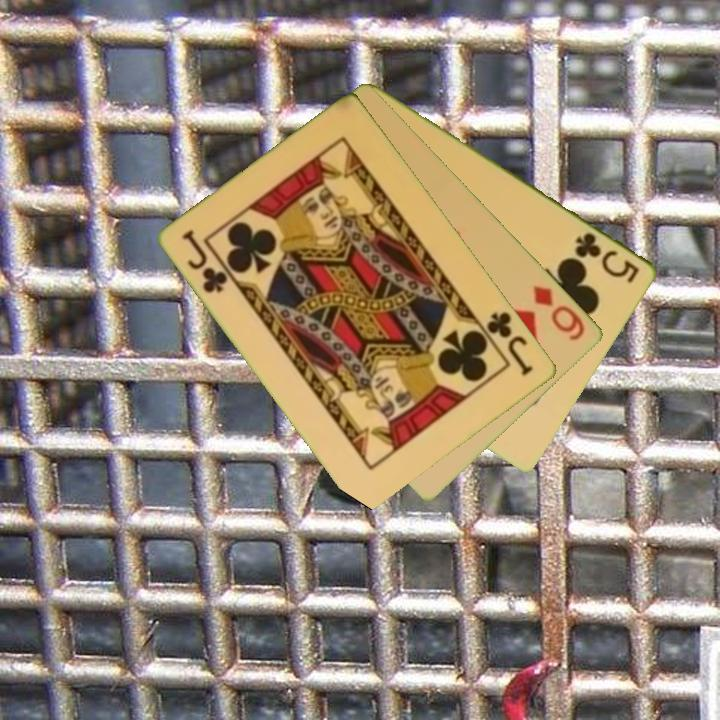5c: (572, 228, 643, 286)
6d: (530, 281, 589, 344)
Jc: (483, 307, 537, 379), (178, 226, 232, 297)
